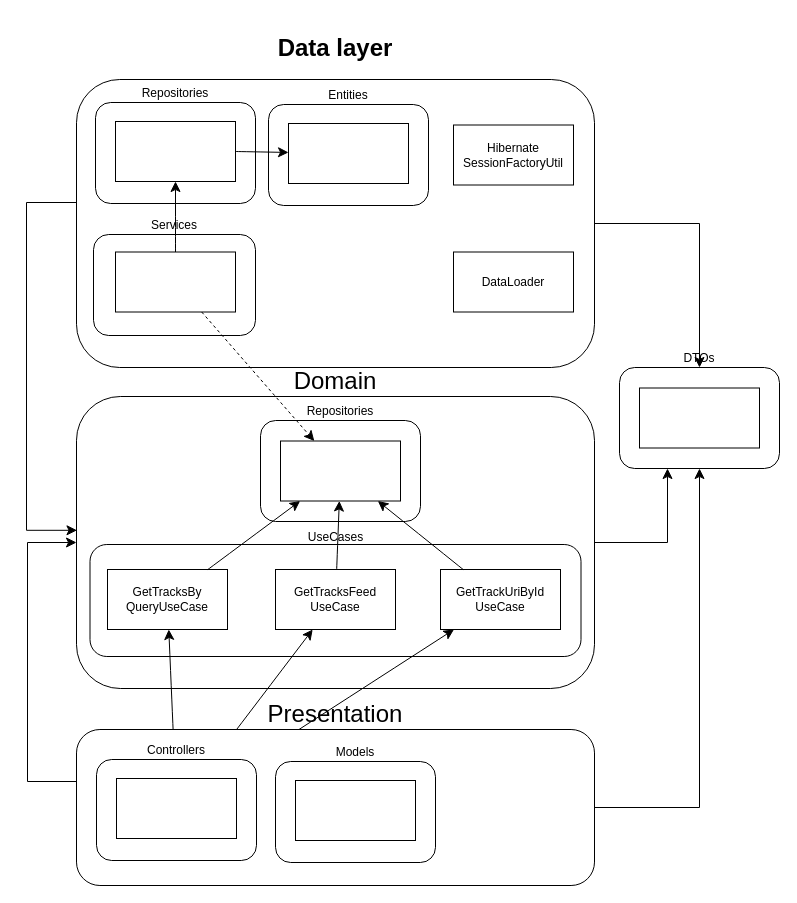
Some shapes in this 797 by 903 pixel diagram are drawn without their labels. Each missing label, with the centre of its shape:
MainController: point 176,808
TrackDTO: point 699,417
TrackEntity: point 348,153
TrackRepository: point 175,151
TrackService: point 340,470
TrackServiceImpl: point 175,281
TracksResponse Model: point 355,810
